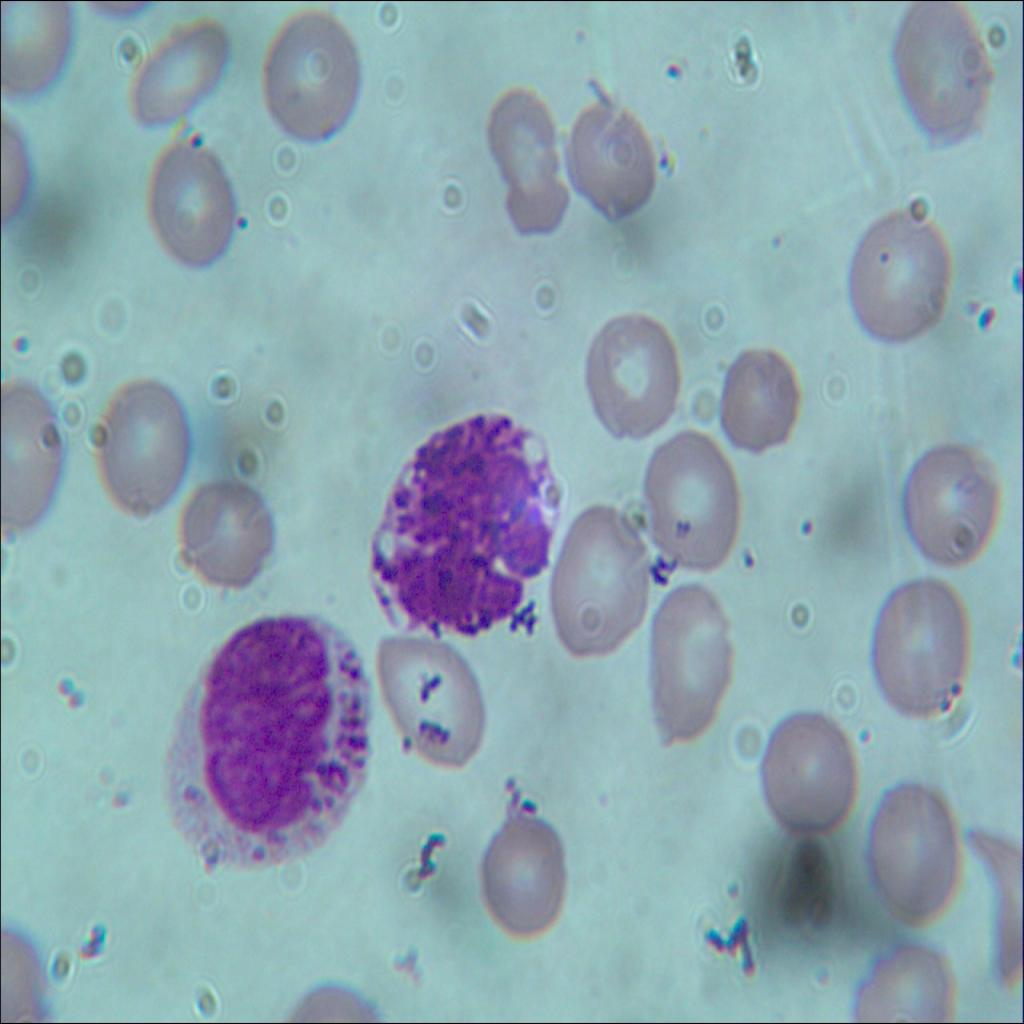Basofil: (368, 414, 562, 658)
Eritrosit: (381, 625, 491, 769), (862, 572, 968, 718), (751, 704, 861, 844), (890, 1, 998, 142), (638, 586, 734, 739), (866, 774, 958, 932), (546, 515, 652, 652), (583, 301, 681, 448), (895, 438, 1002, 572), (88, 372, 188, 515), (849, 209, 951, 346), (646, 421, 734, 574), (268, 8, 358, 152), (122, 21, 238, 128), (180, 474, 278, 600), (2, 378, 80, 536), (566, 95, 660, 224), (708, 339, 802, 467), (476, 798, 569, 925), (148, 138, 234, 266), (838, 945, 951, 1023), (0, 0, 75, 101), (498, 161, 576, 249), (490, 88, 556, 186)
Monosit: (163, 609, 369, 867)
Platelet: (969, 291, 1004, 337), (870, 239, 900, 274), (659, 61, 694, 87), (718, 872, 748, 902), (738, 537, 761, 574), (184, 117, 206, 155), (794, 509, 816, 547), (762, 225, 794, 251), (4, 330, 31, 360), (656, 141, 678, 175), (498, 766, 518, 791), (231, 208, 248, 236)
